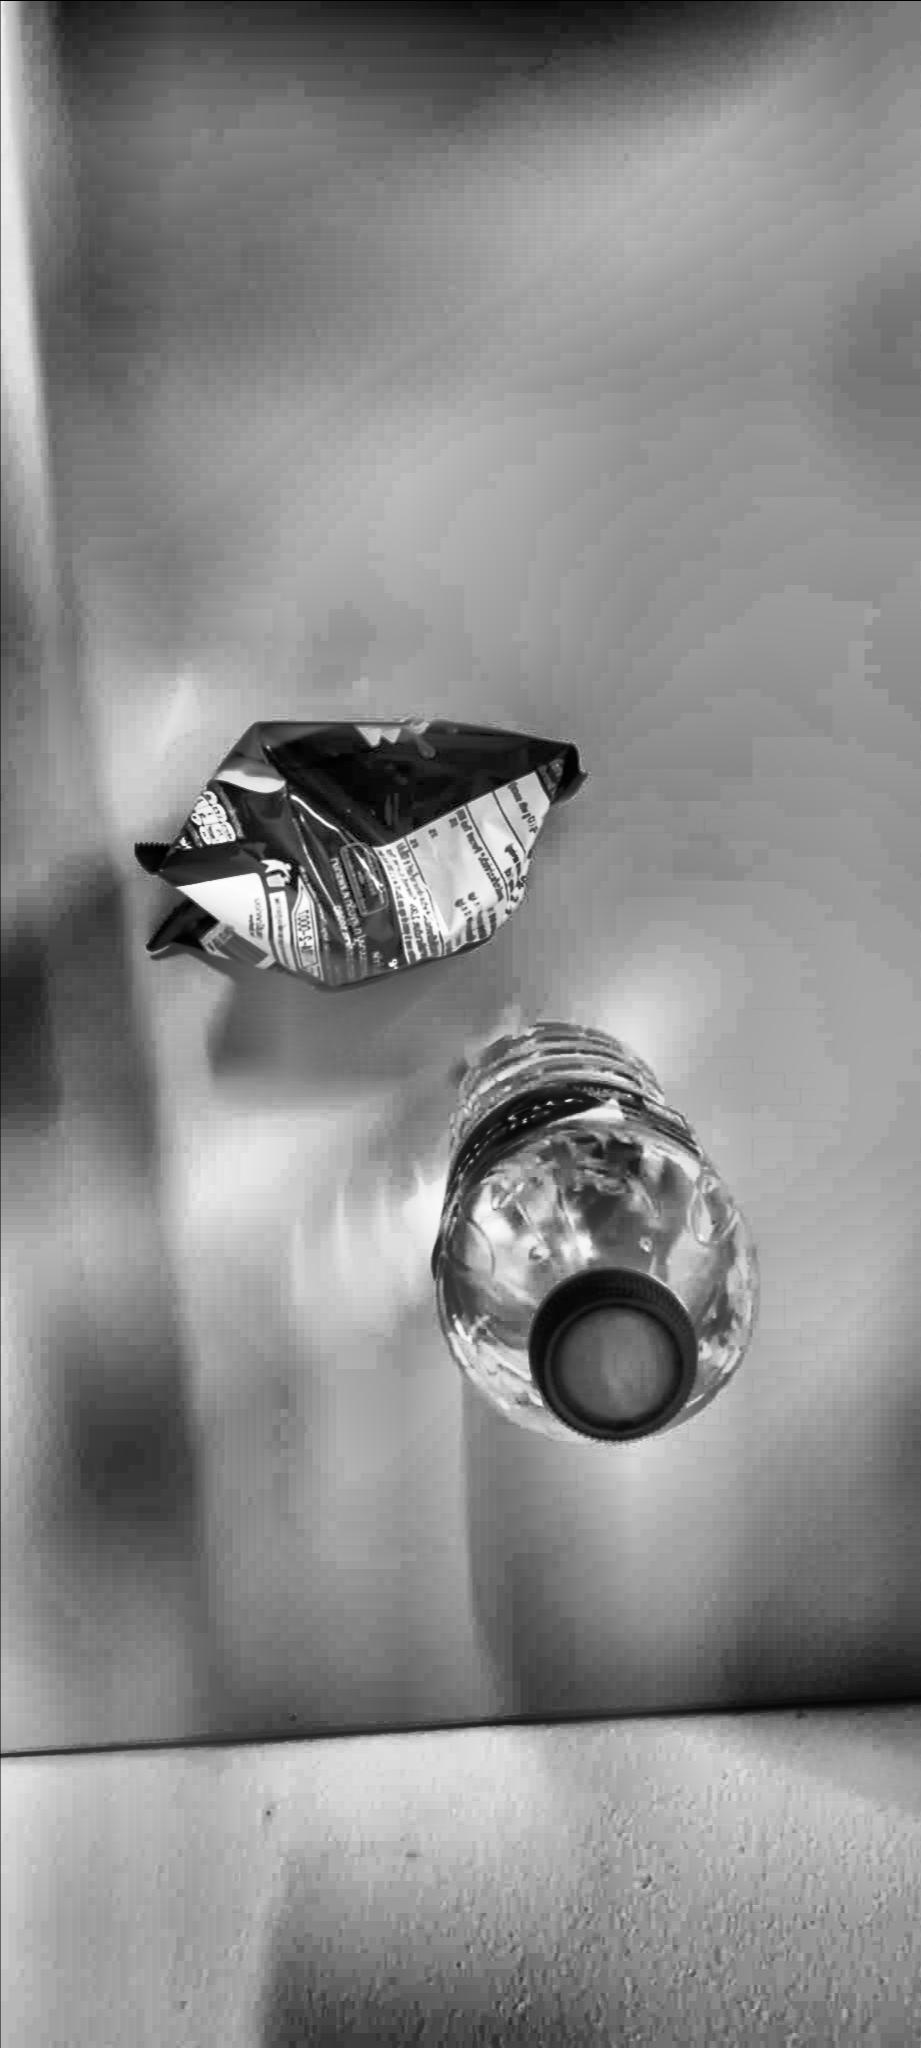snackbag: (116, 578, 603, 1057)
waterbottle: (416, 1019, 783, 1457)
